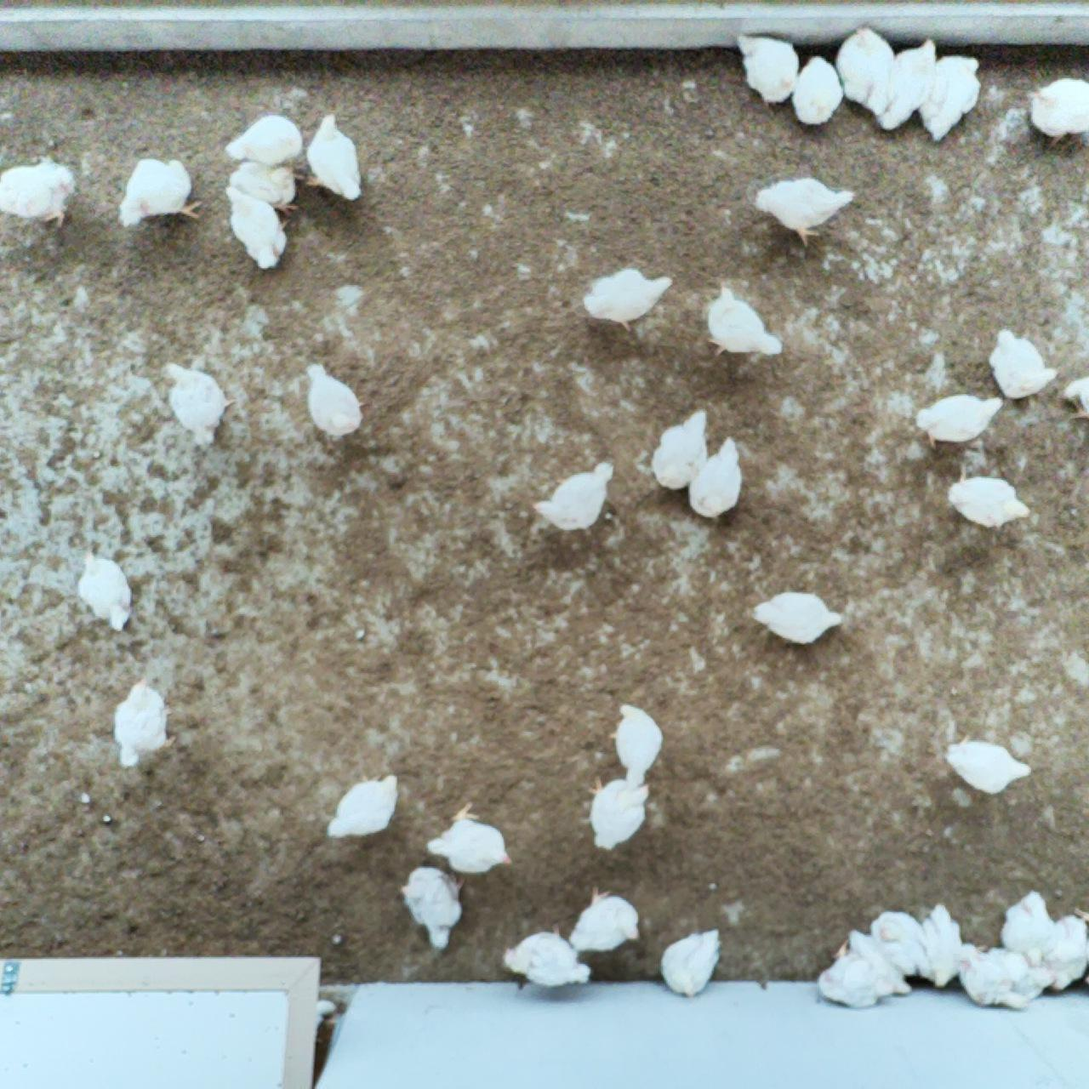chicken: (158, 355, 240, 456), (749, 175, 860, 249), (702, 278, 787, 372), (578, 264, 680, 339), (110, 670, 182, 774), (530, 457, 619, 540), (423, 799, 513, 881), (939, 460, 1034, 533), (941, 728, 1037, 800), (116, 154, 202, 234), (396, 861, 468, 955), (915, 53, 987, 146), (877, 34, 943, 135), (581, 770, 655, 860), (0, 151, 80, 234), (911, 390, 1012, 455), (954, 935, 1034, 1017), (747, 586, 848, 650), (222, 181, 290, 276), (500, 921, 596, 988), (832, 21, 897, 116), (985, 324, 1062, 403), (569, 880, 644, 961), (299, 358, 372, 441), (684, 432, 751, 522), (647, 408, 717, 494), (325, 768, 400, 848), (303, 107, 366, 202), (994, 886, 1062, 971), (730, 29, 802, 109), (74, 545, 136, 637), (658, 925, 727, 1004), (814, 937, 885, 1013), (864, 905, 931, 985), (219, 111, 305, 173), (608, 700, 667, 786), (845, 925, 914, 998), (223, 156, 302, 217), (1023, 74, 1089, 147), (790, 50, 847, 130), (918, 901, 966, 992), (989, 943, 1060, 1002), (1050, 908, 1089, 996), (1059, 372, 1089, 427)
